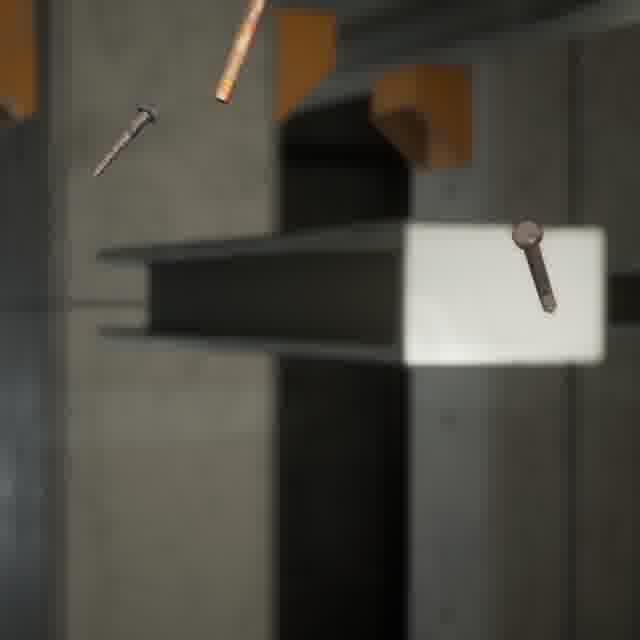bolt: (209, 0, 274, 108), (86, 97, 163, 183), (507, 217, 561, 319)
